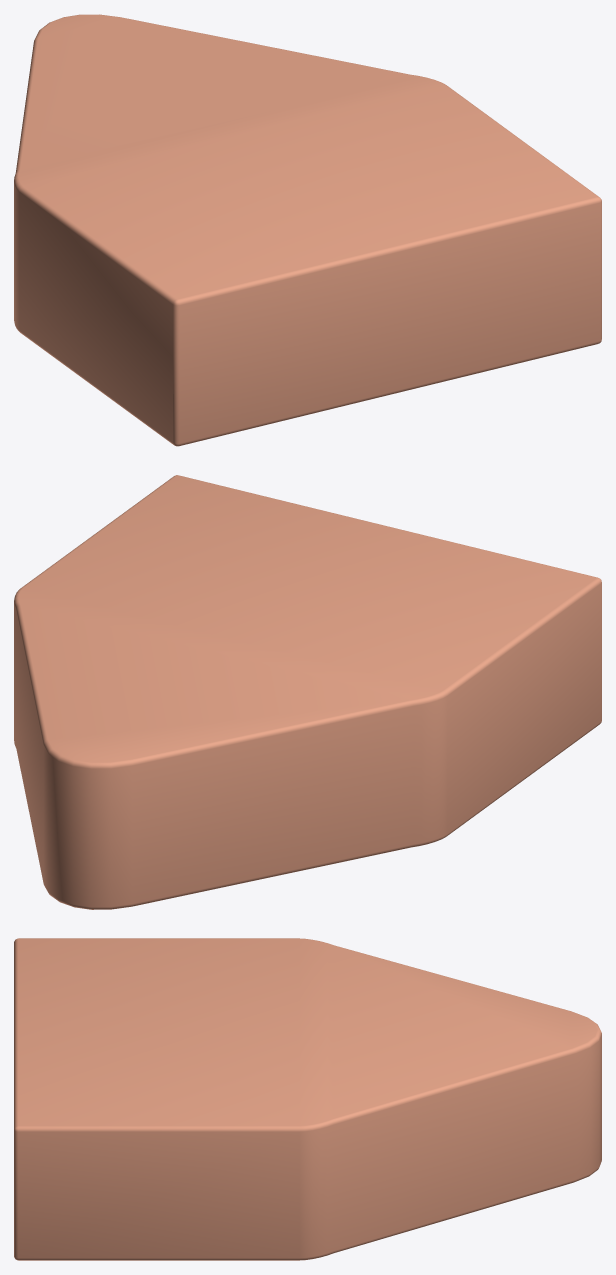
Rendered from island_lv19_1.fbx.
3 renders of one model, top to bottom at view 1: azimuth 30°, elevation 25°; view 2: azimuth 150°, elevation 25°; view 3: azimuth 270°, elevation 25°, orthographic. The views are drawn at different scales.
Visible parts, largest first — view 1: island_lv19_1; view 2: island_lv19_1; view 3: island_lv19_1.
Part boxes in pixels (<box>): island_lv19_1: <box>14,14,601,446</box>; island_lv19_1: <box>14,475,601,909</box>; island_lv19_1: <box>14,938,601,1260</box>.
Size of the model in its own units: 1526 by 500 by 1986.
